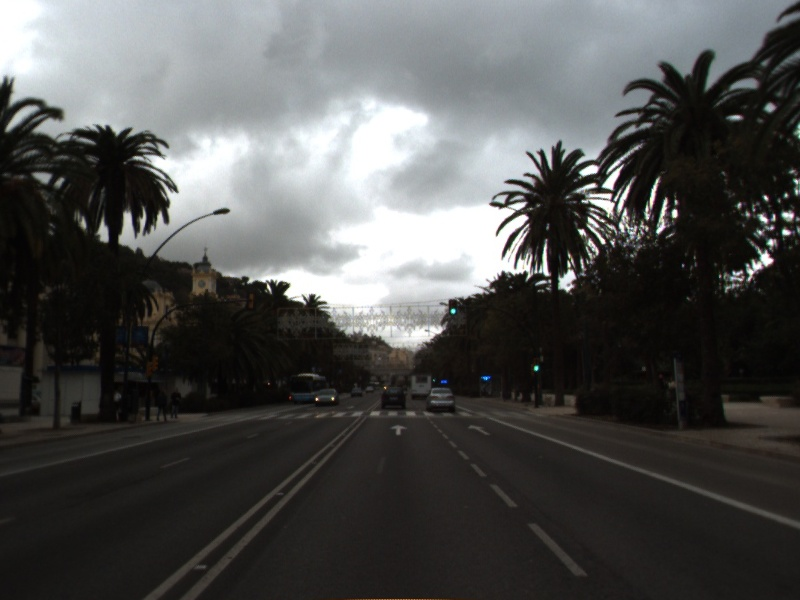STRAIGHT: (465, 422, 493, 438), (387, 422, 410, 437)
